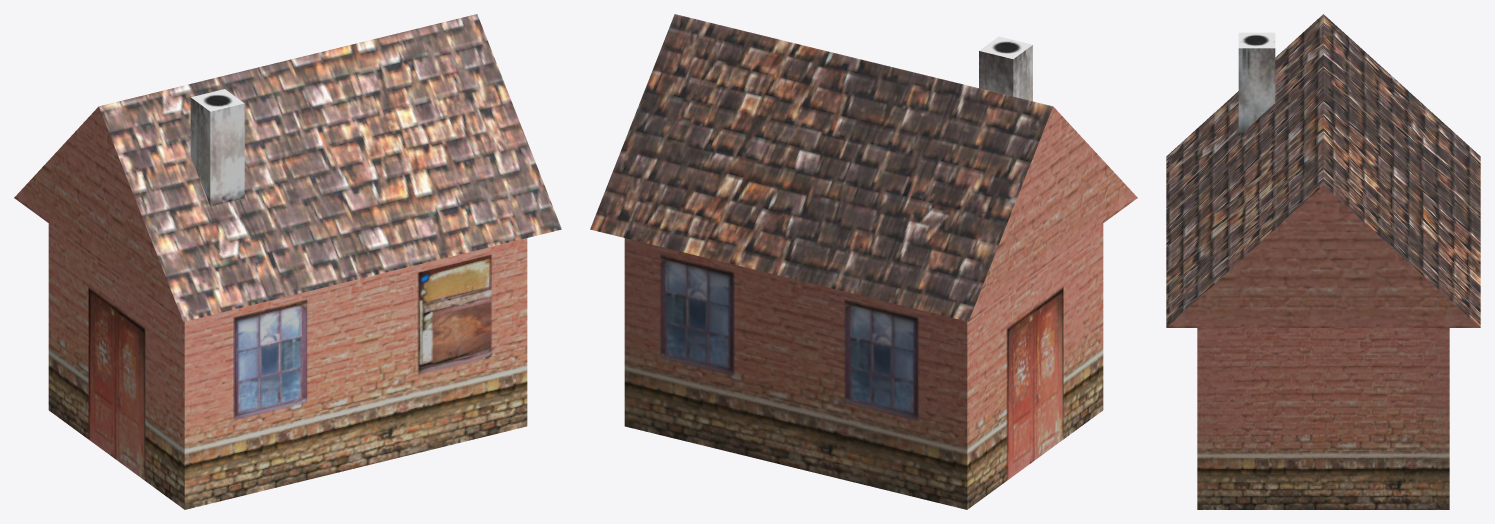
Rendered from house01.obj.
3 renders of one model, left to right at view 1: azimuth 30°, elevation 25°; view 2: azimuth 150°, elevation 25°; view 3: azimuth 270°, elevation 25°, orthographic. The views are drawn at different scales.
Bounding box in the file's own units: 4.91 × 4.59 × 3.81.
1 material, 1 textured.
